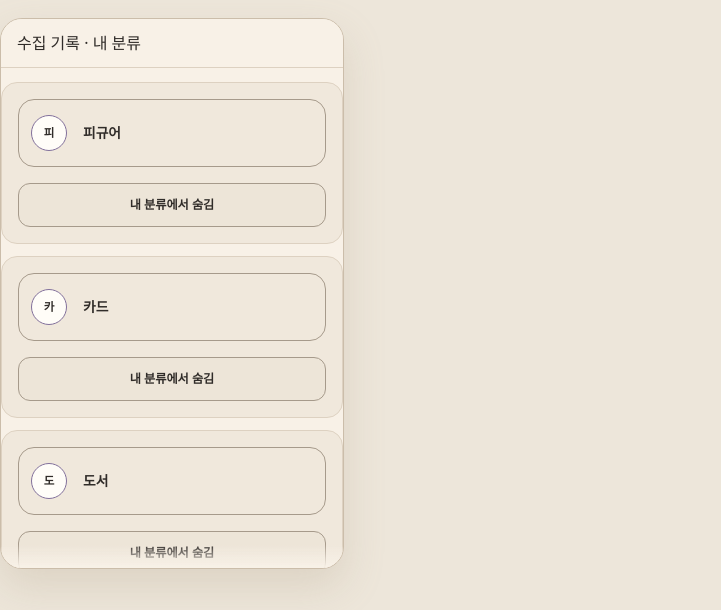
it: shows the new kind's failed lookup and retries into only its rows
This screenshot has width=721, height=610.
Click the button "도 도서" at (49, 480), box [18,446,326,514]
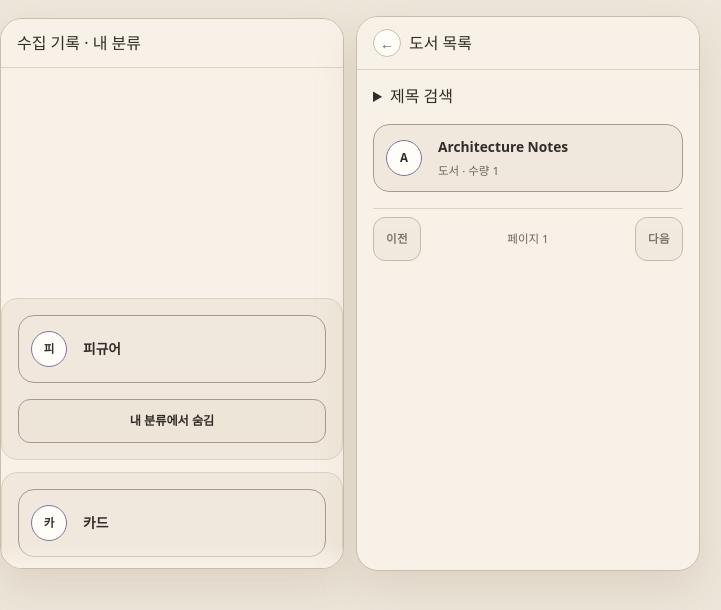
Expected: the button "A Architecture Notes 도서 · 수량 1" is shown, [373,124,683,192]
Click the button "피 피규어" at (49, 348), box [18,314,326,382]
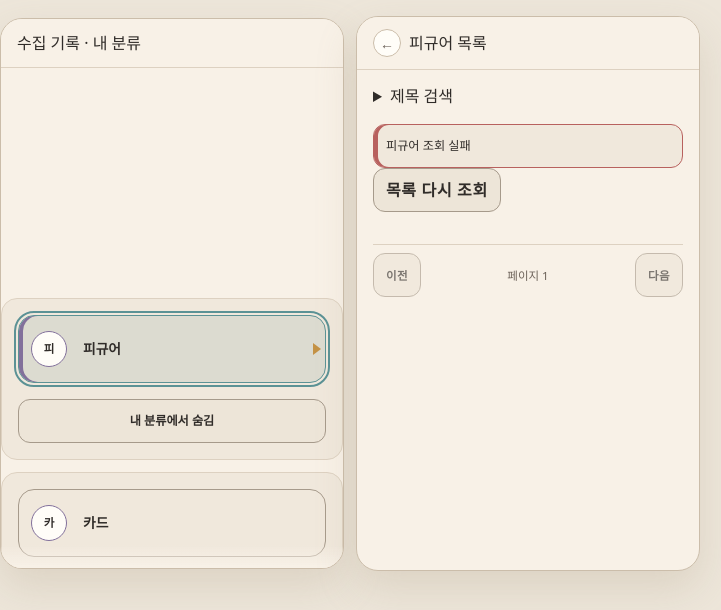
Expected: the message reads "피규어 조회 실패", [386,136,471,154]
Expected: the button "Architecture Notes" is gone
Click the button "목록 다시 조회" at (437, 190), box [373,168,501,212]
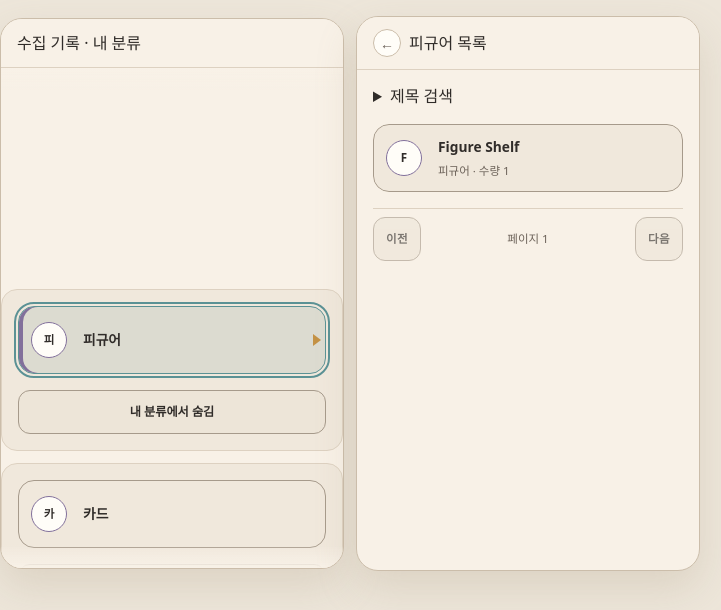
Expected: the button "Architecture Notes" is not shown
Expected: the button "F Figure Shelf 피규어 · 수량 1" is shown, [373,124,683,192]
